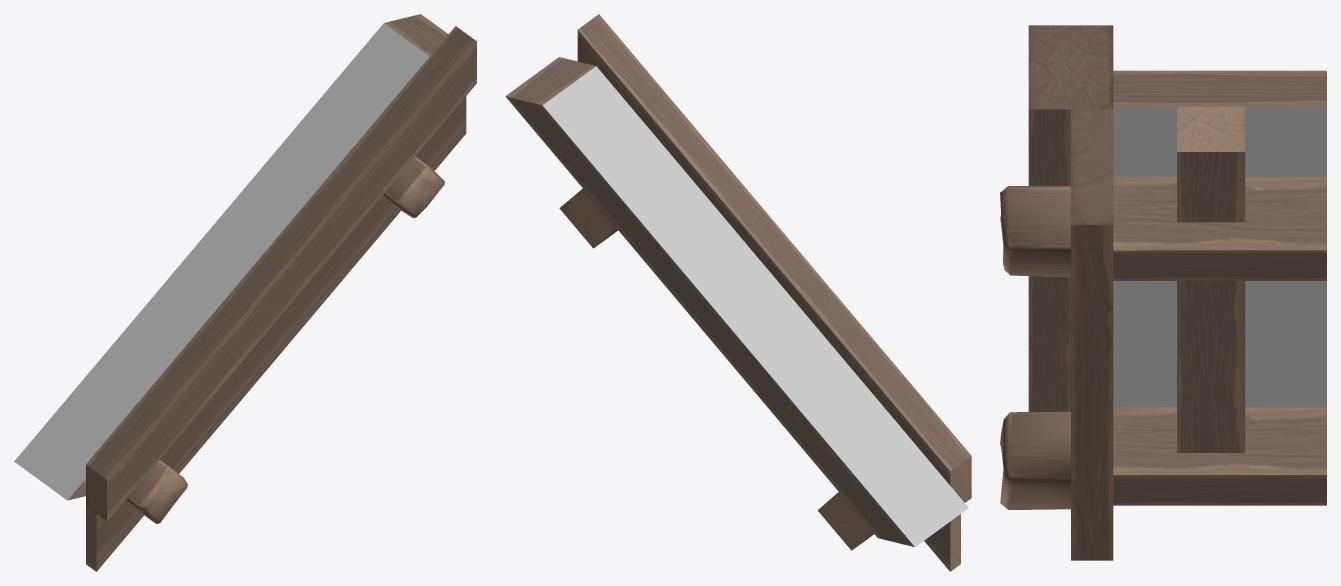
Rendered from SM_HouseRoof_EndPiece.fbx.
3 views of the same model, side by side, from view 1: azimuth 30°, elevation 25°; view 2: azimuth 150°, elevation 25°; view 3: azimuth 270°, elevation 25° (orthographic). The views are drawn at different scales.
Visible parts, largest first — view 1: SM_HouseRoof_EndPiece; view 2: SM_HouseRoof_EndPiece; view 3: SM_HouseRoof_EndPiece.
Part boxes in pixels (left/top/right/bottom): SM_HouseRoof_EndPiece: left=14, top=14, right=476, bottom=571; SM_HouseRoof_EndPiece: left=505, top=14, right=971, bottom=571; SM_HouseRoof_EndPiece: left=1000, top=25, right=1326, bottom=560.
Size of the model in its own units: 570 by 191 by 579.
